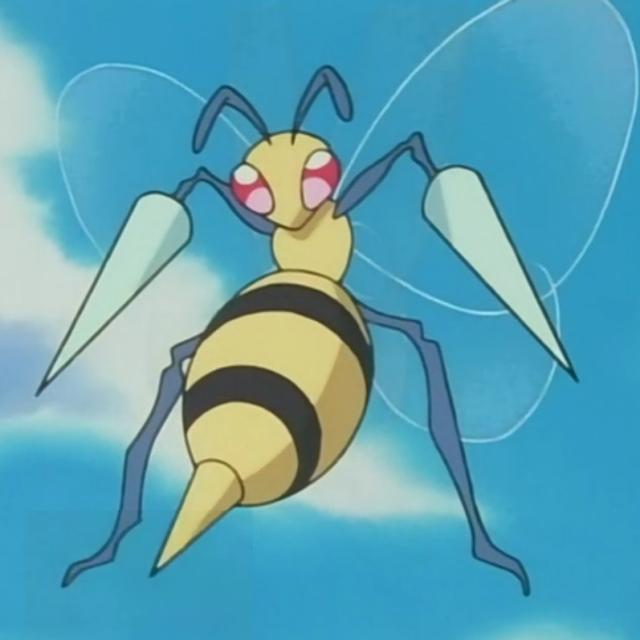Beedrill: (61, 86, 530, 570)
